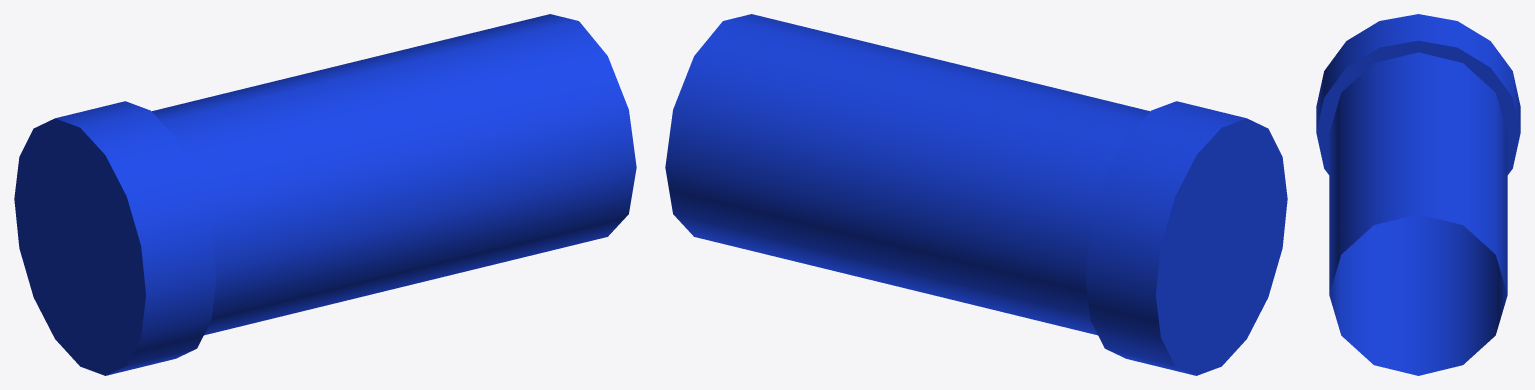
File: pipe10.fbx
3 views of the same model, side by side, from view 1: azimuth 30°, elevation 25°; view 2: azimuth 150°, elevation 25°; view 3: azimuth 270°, elevation 25° (orthographic). The views are drawn at different scales.
Parts seen in each view (by area): view 1: 1.007; view 2: 1.007; view 3: 1.007.
Boxes of the visible parts, x1,y1,x2,y2 form: 1.007: [14, 14, 636, 375]; 1.007: [665, 14, 1287, 375]; 1.007: [1316, 14, 1520, 375].
Size of the model in its own units: 7703 by 3526 by 3526.
